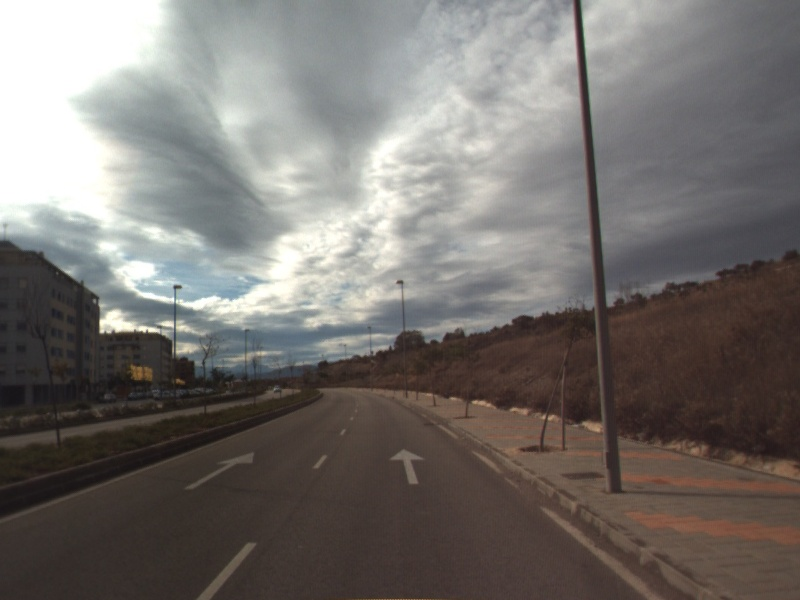STRAIGHT: (182, 450, 256, 491), (387, 446, 428, 485)
